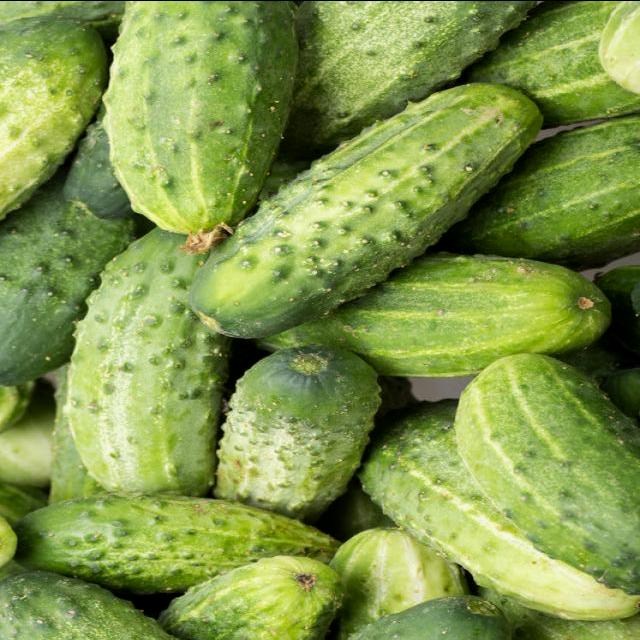cucumber: (184, 78, 554, 342), (222, 247, 616, 380), (63, 226, 230, 506), (451, 353, 640, 599), (109, 1, 295, 232), (14, 494, 347, 594), (218, 348, 386, 508)
